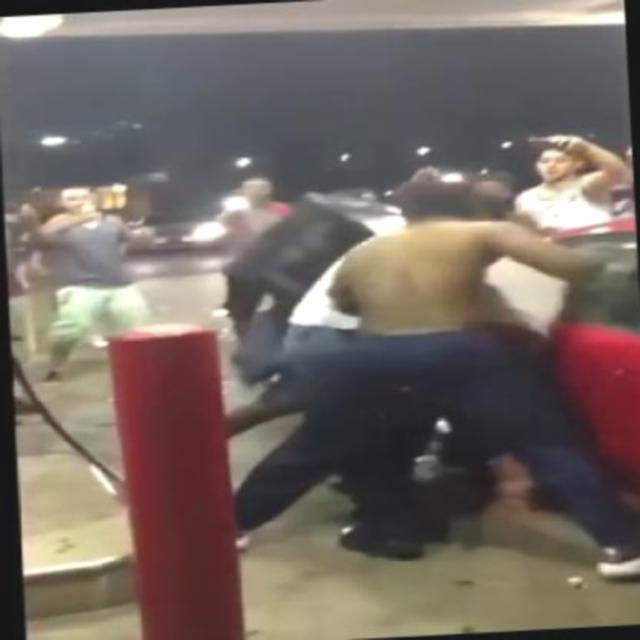fight: (226, 162, 611, 526)
non-fight: (33, 174, 152, 368)
